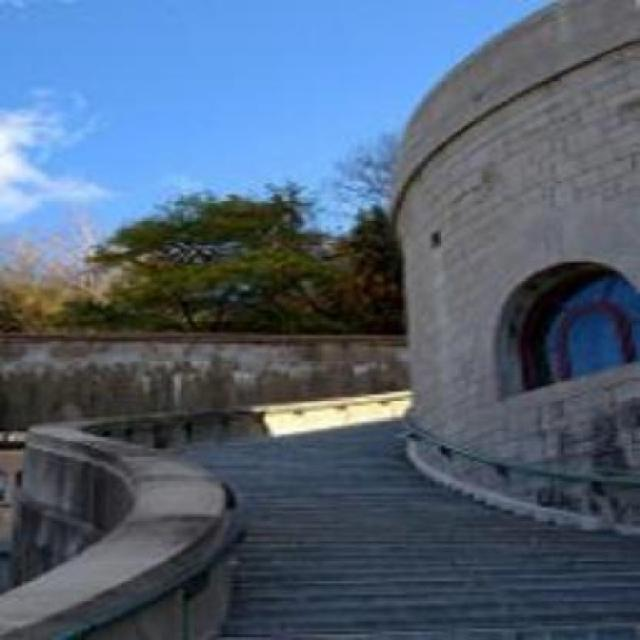stair: (161, 436, 640, 638)
